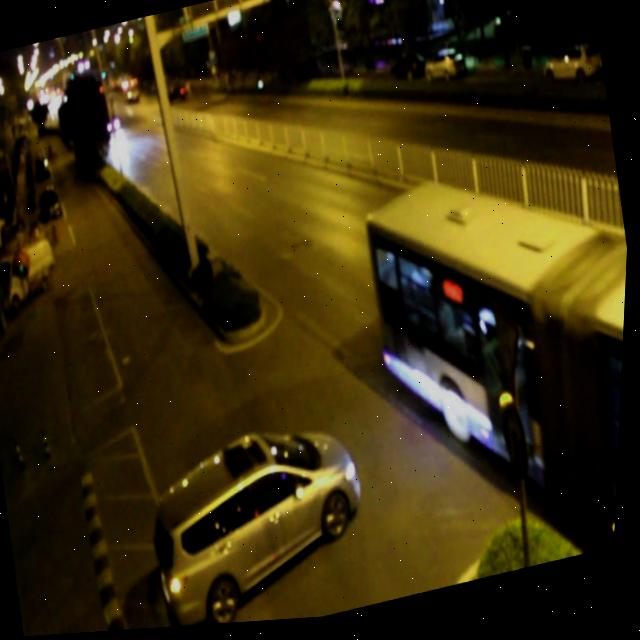car: (146, 413, 382, 631), (573, 258, 630, 360)
van: (346, 153, 633, 604)
